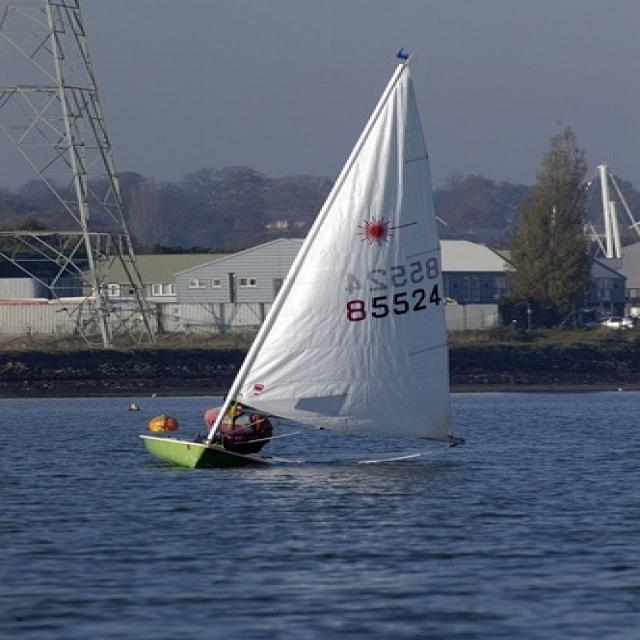Ship: (102, 52, 473, 475)
